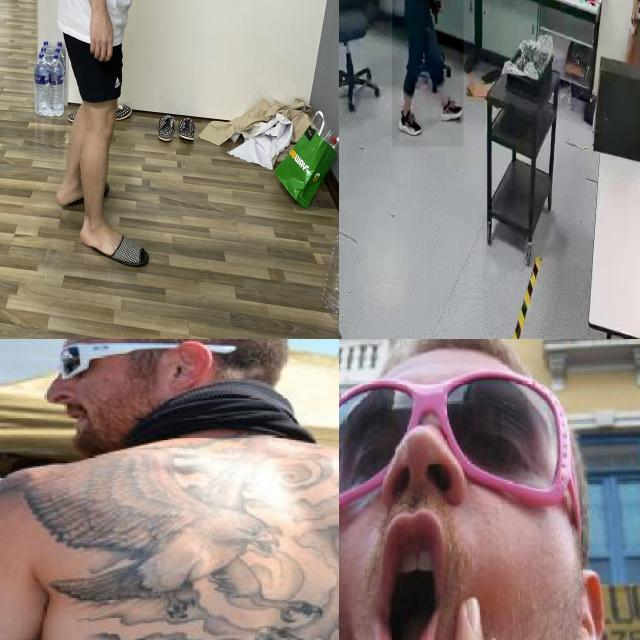No_Ear-Protection: (165, 339, 213, 391)
Sandals: (80, 207, 149, 267)
face_nomask: (37, 339, 108, 445)
glasses: (339, 361, 576, 513), (56, 342, 242, 378)
person: (0, 339, 339, 640), (392, 0, 464, 147)
shoes: (396, 105, 423, 142), (434, 89, 464, 121)
